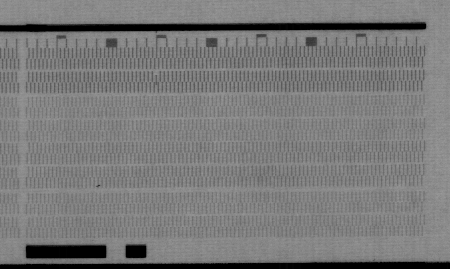Oblique printing: (151, 71, 162, 86)
